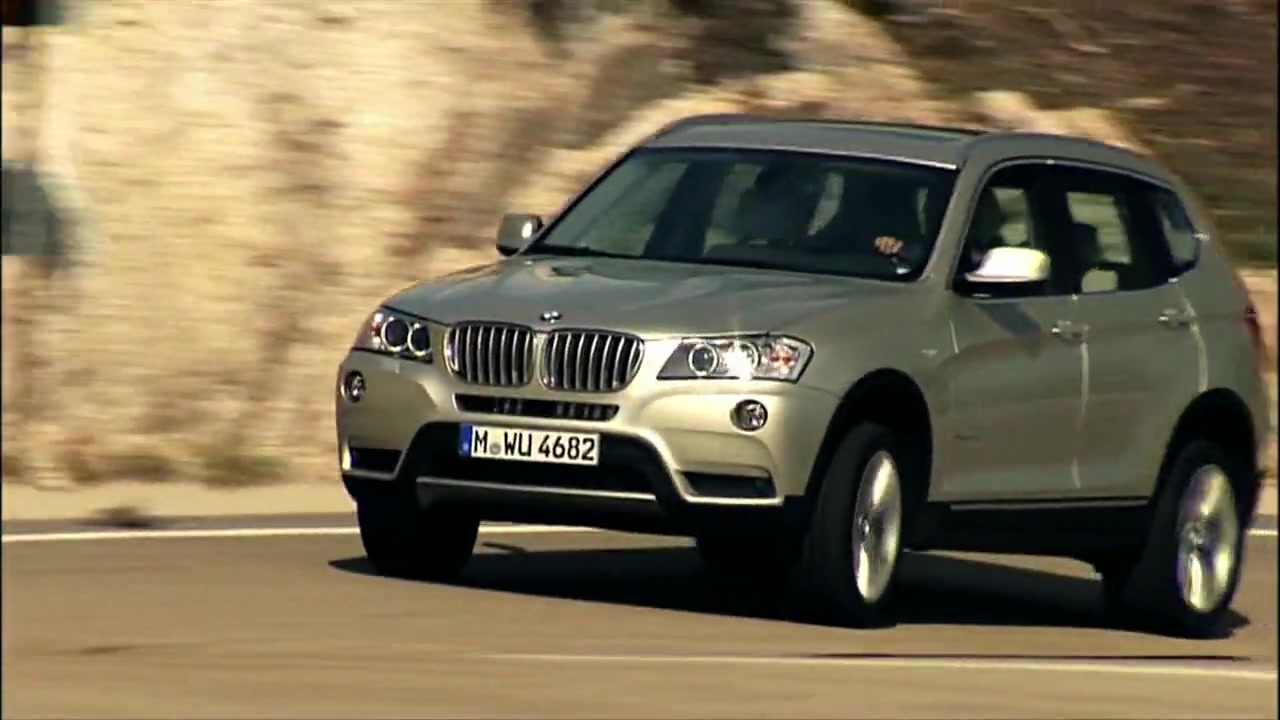car: (337, 112, 1272, 626)
